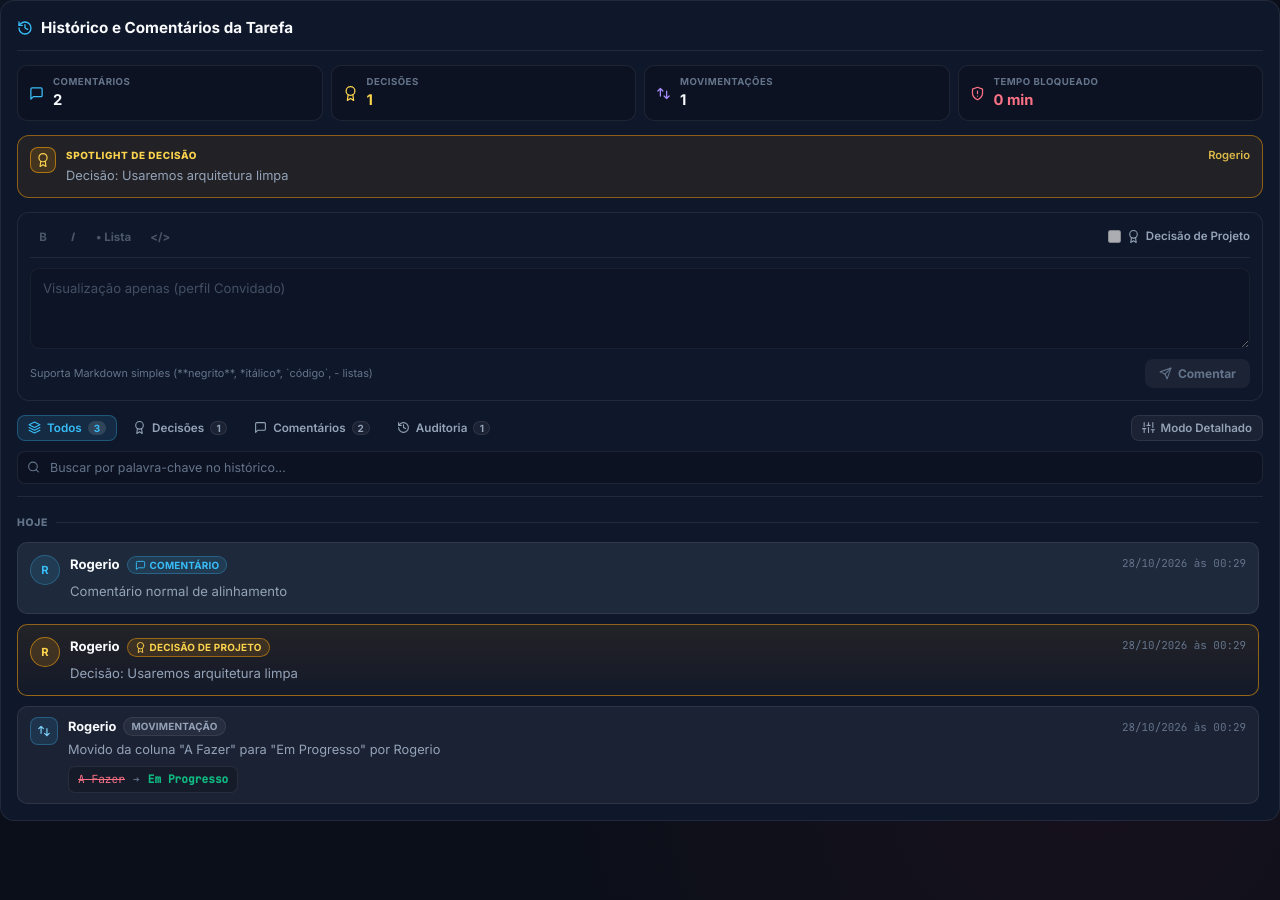
Feature 034 - Enterprise Task Timeline Redesign Unit Tests › 4. Component Search and Decision Filter Integration › filters comments by decision flag and search query correctly
Check: the heading "Histórico e Comentários da Tarefa" is shown, box [17,17,293,40]
Check: the text "Decisão: Usaremos arquitetura limpa" below "Spotlight de Decisão" is shown, box [66,168,288,183]
// Filter by Decisions tab
Step 1. Click the button "Decisões 1" → (180, 428), box [122,415,238,441]
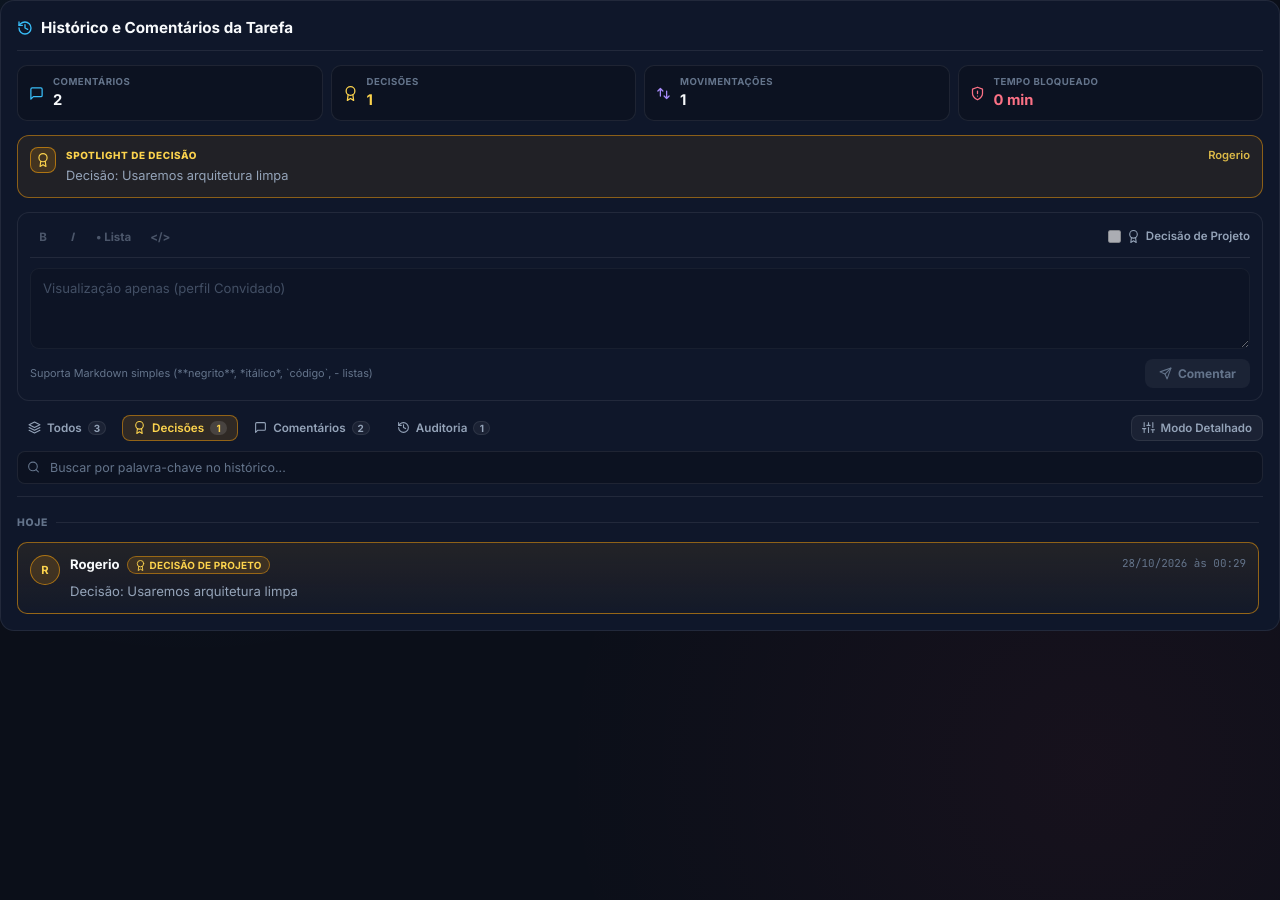
Check: the text "Decisão: Usaremos arquitetura limpa" below "Spotlight de Decisão" is shown, box [66,168,288,183]
Check: the text "Comentário normal de alinhamento" is gone
// Search input filtering
Step 2. Type "arquitetura" into the field with test id "timeline-search-input" → (640, 467), box [17,451,1263,484]
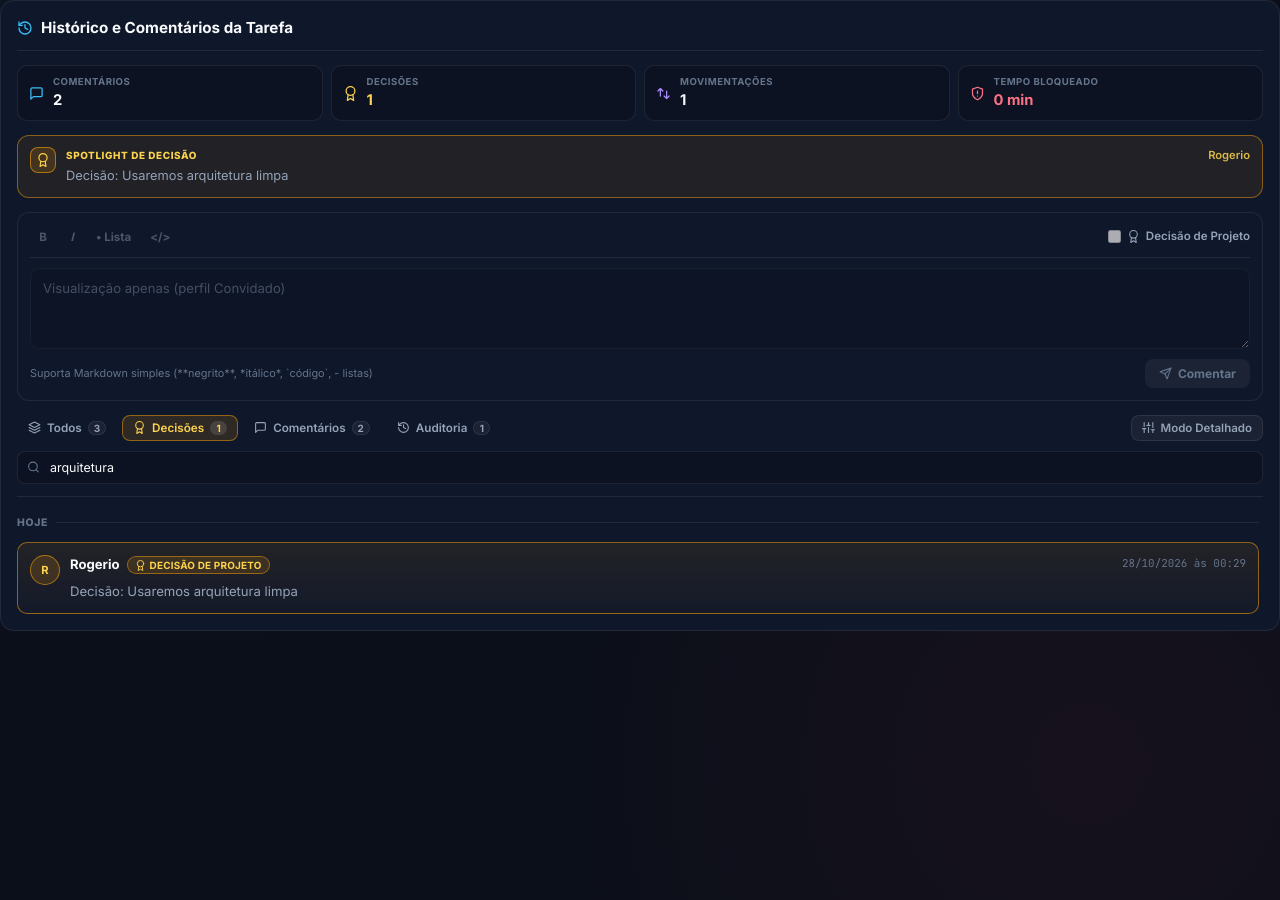
Check: the text "Decisão: Usaremos arquitetura limpa" below "Spotlight de Decisão" is shown, box [66,168,288,183]
Step 3. Replace the text in the field with test id "timeline-search-input" with "inexistente" → (640, 467), box [17,451,1263,484]
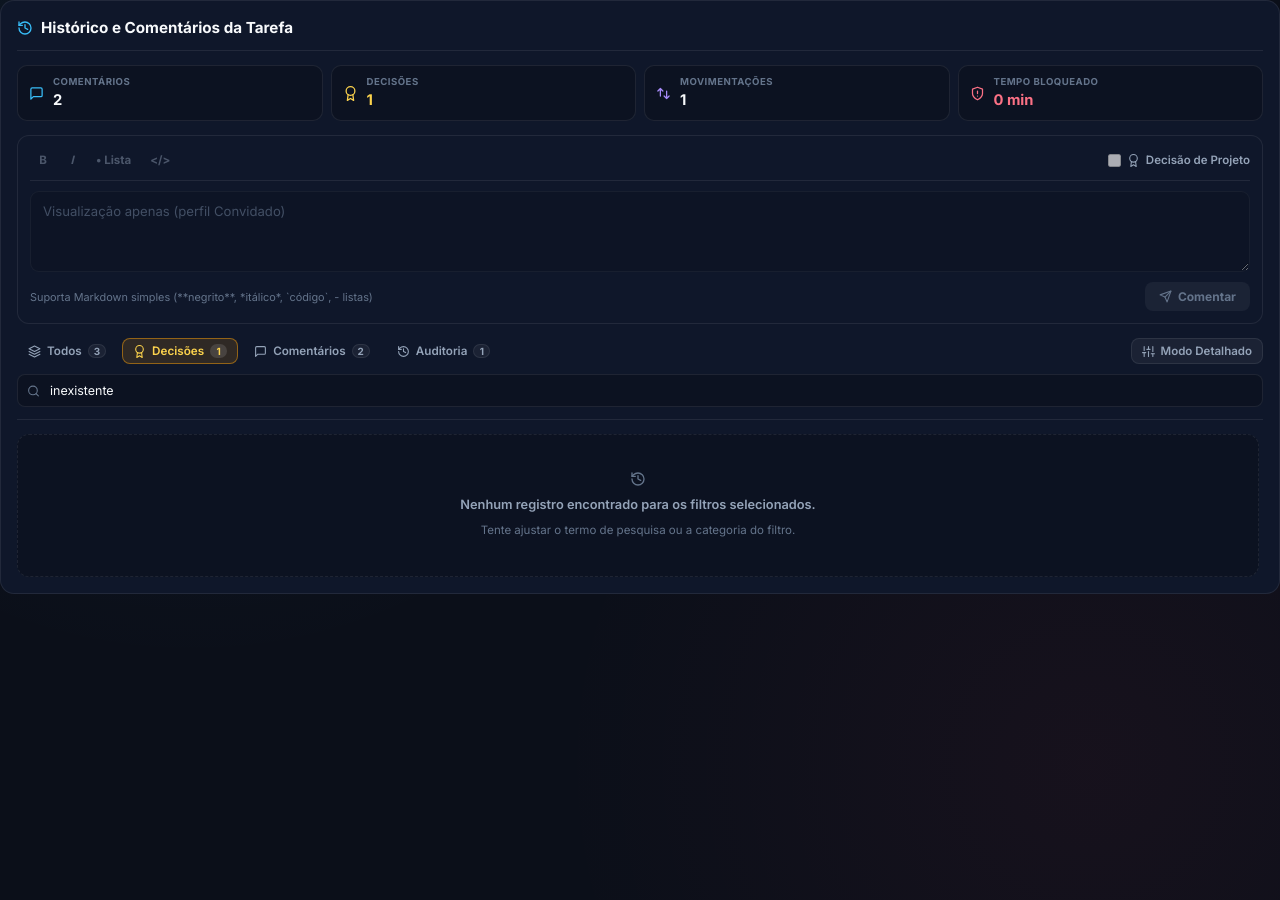
Check: the text "Decisão: Usaremos arquitetura limpa" is gone
